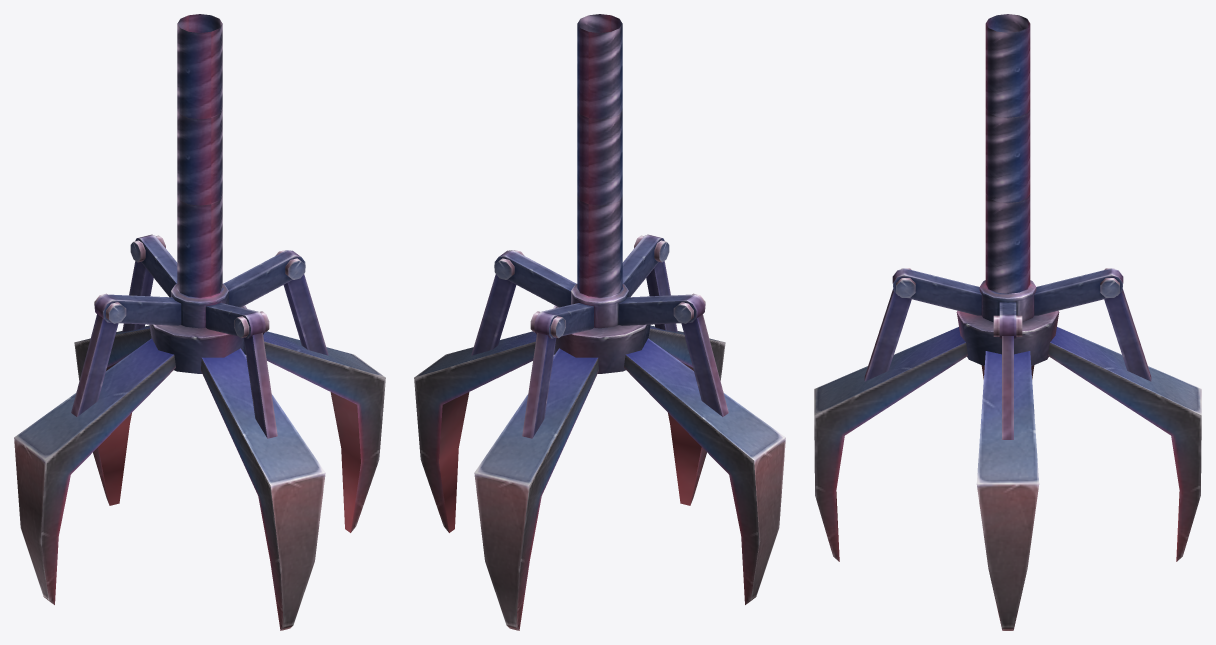
Rendered from scenes_level_bata02.FBX.
3 views of the same model, side by side, from view 1: azimuth 30°, elevation 25°; view 2: azimuth 150°, elevation 25°; view 3: azimuth 270°, elevation 25° (orthographic).
Visible parts, largest first — view 1: scenes_level_bata02; view 2: scenes_level_bata02; view 3: scenes_level_bata02.
Part boxes in pixels (box(x1,y1,x2,y2)): scenes_level_bata02: box(14, 14, 385, 630); scenes_level_bata02: box(414, 14, 785, 630); scenes_level_bata02: box(814, 14, 1201, 630).
Bounding box in the file's own units: 631 × 964 × 631.
